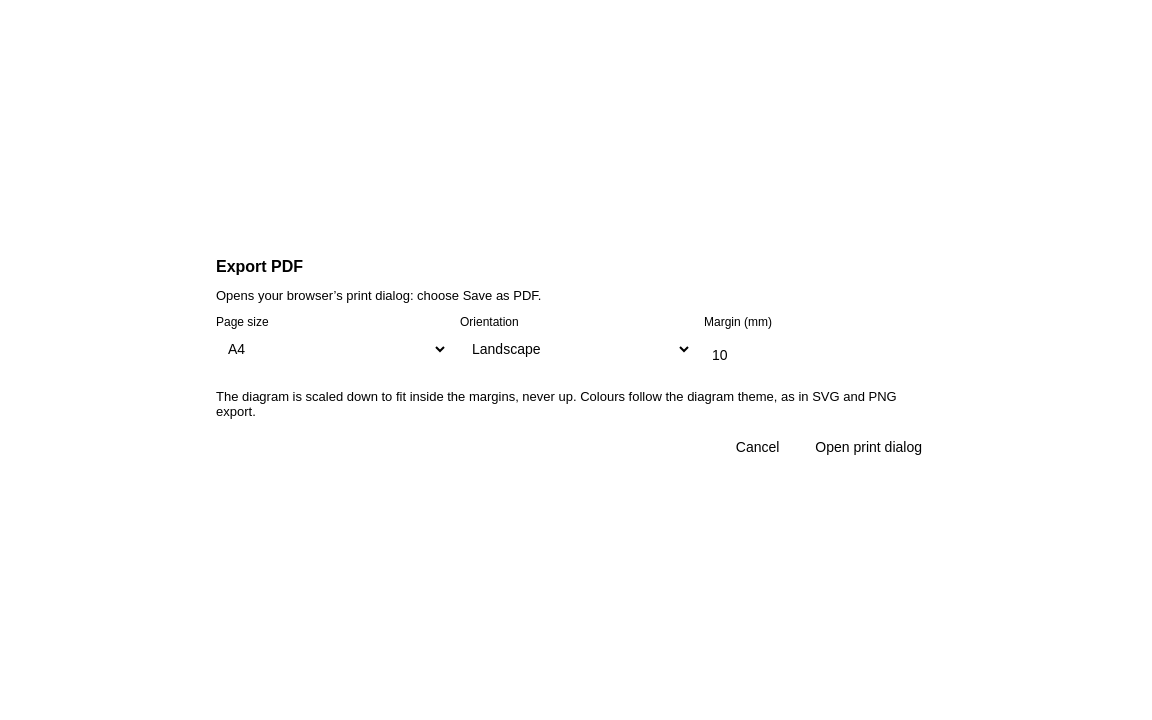
ExportPdfDialog › keeps the dialog open and says so when the print view could not be made
The image size is (1152, 720).
Click the button "Open print dialog": (869, 446) [801, 430, 936, 462]
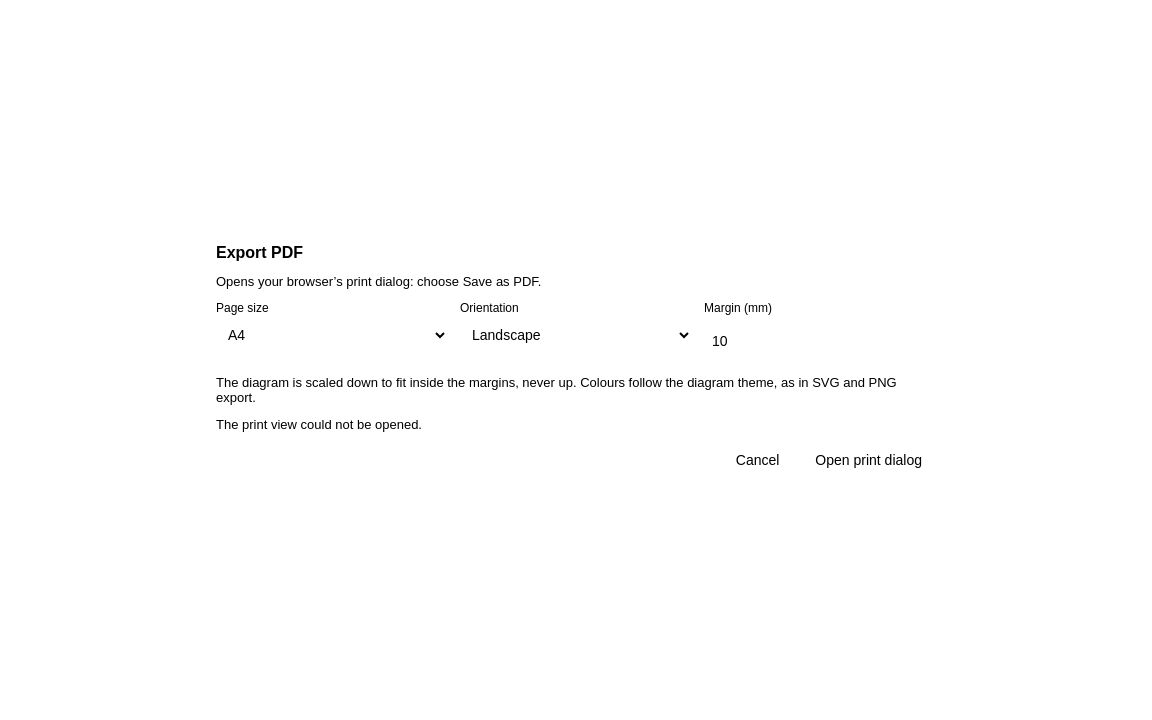
Expected: the button "Open print dialog" is enabled, [801, 444, 936, 476]
Now the message shows "print view could not be opened", box [216, 417, 422, 432]
